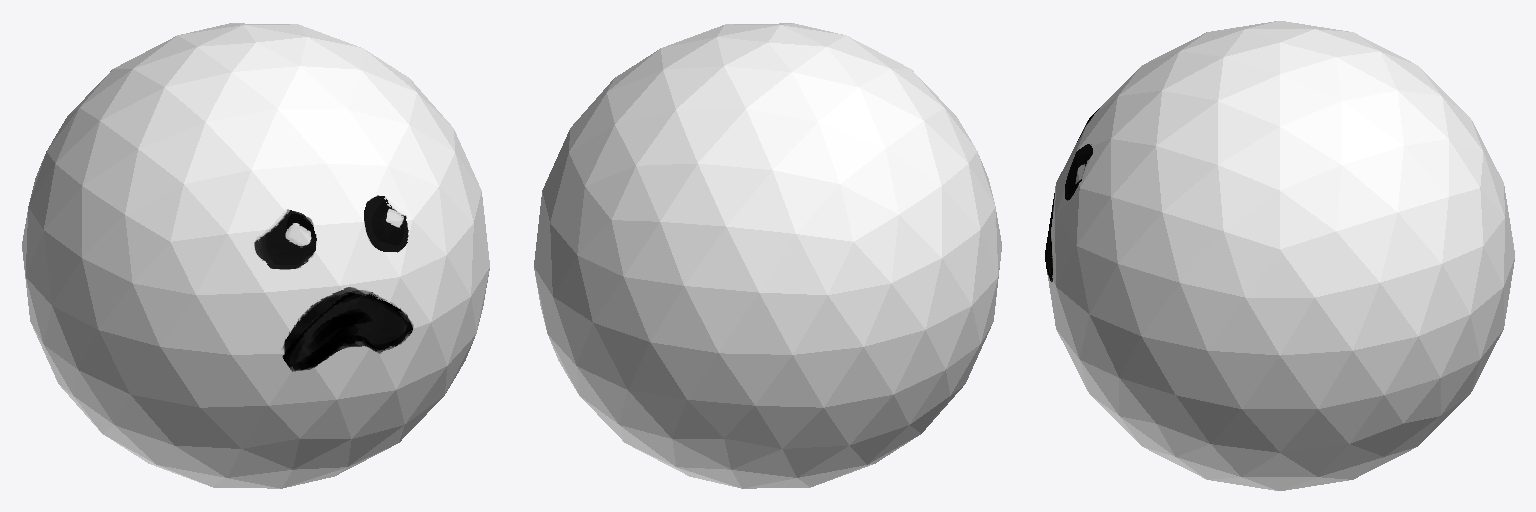
3 views of the same model, side by side, from view 1: azimuth 30°, elevation 25°; view 2: azimuth 150°, elevation 25°; view 3: azimuth 270°, elevation 25° (orthographic).
Visible parts, largest first — view 1: Icosphere_Material.002, Icosphere_Face; view 2: Icosphere_Material.002; view 3: Icosphere_Material.002, Icosphere_Face.
Boxes of the visible parts, x1,y1,x2,y2 form: Icosphere_Material.002: [22, 23, 489, 488]; Icosphere_Face: [255, 196, 412, 371]; Icosphere_Material.002: [534, 23, 1001, 488]; Icosphere_Material.002: [1047, 21, 1514, 490]; Icosphere_Face: [1045, 108, 1099, 281].
Size of the model in its own units: 4.98 by 4.98 by 4.98.
3 materials, 1 textured.